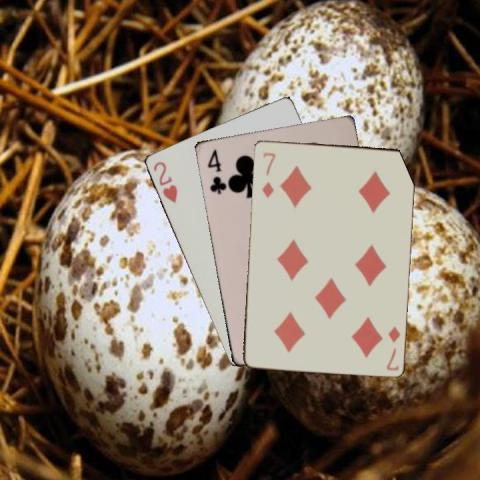2h: (150, 158, 179, 204)
4c: (204, 146, 227, 195)
7d: (258, 149, 276, 199), (383, 323, 401, 372)
